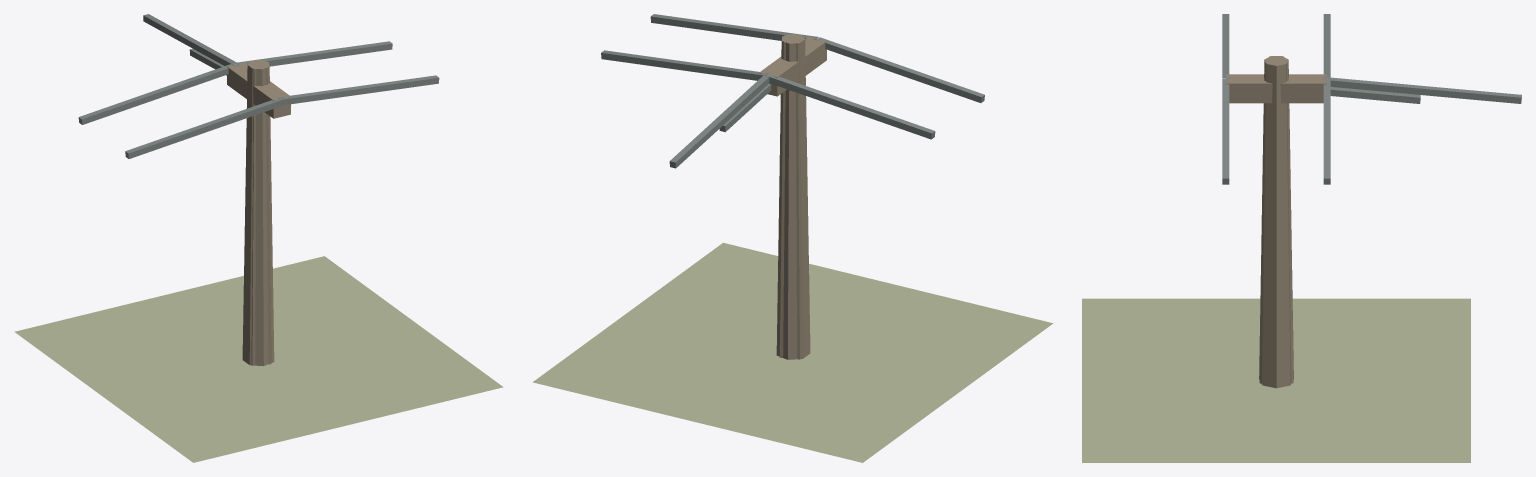
3 renders of one model, left to right at view 1: azimuth 30°, elevation 25°; view 2: azimuth 150°, elevation 25°; view 3: azimuth 270°, elevation 25°, orthographic. The views are drawn at different scales.
Visible parts, largest first — view 1: Near, Far; view 2: Near, Far; view 3: Near, Far.
Boxes of the visible parts, box(x1,y1,x2,y2) form: Near: box(14, 14, 503, 462); Far: box(247, 60, 271, 365); Near: box(533, 14, 1052, 462); Far: box(779, 34, 804, 359); Near: box(1082, 14, 1521, 462); Far: box(1259, 56, 1293, 383).
Bounding box in the file's own units: 1 × 0.91 × 1.13.
